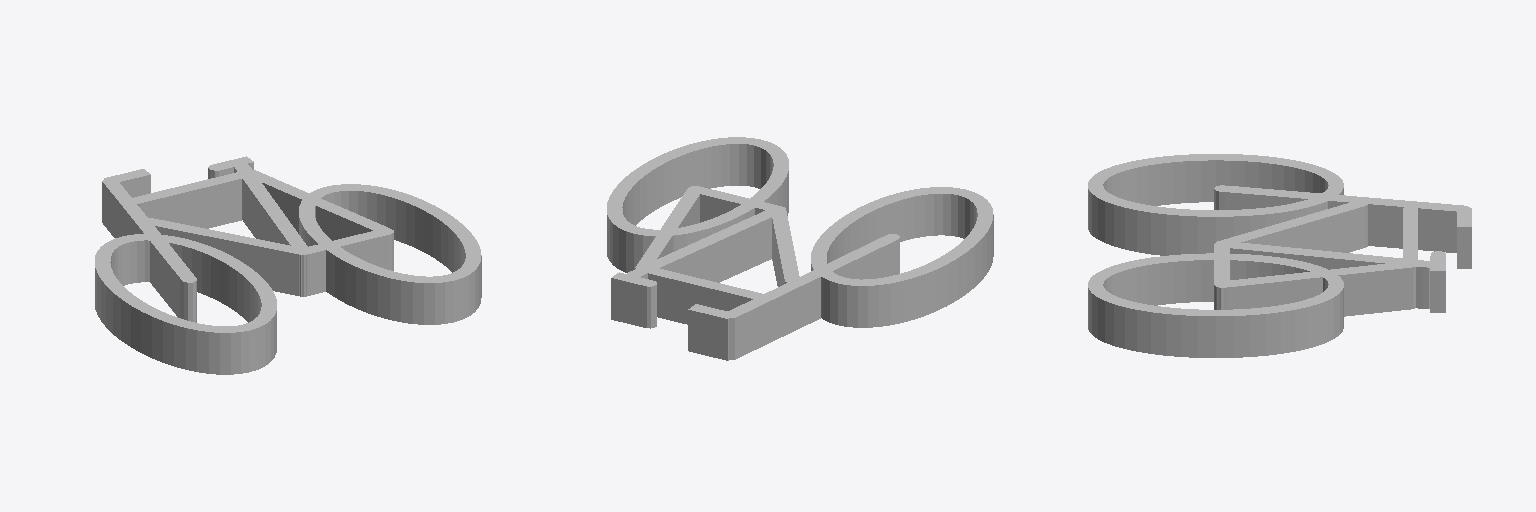
Rendered from 3dtest_cleanup3_0.obj.
The picture shows the model from 3 angles: view 1: azimuth 30°, elevation 25°; view 2: azimuth 150°, elevation 25°; view 3: azimuth 270°, elevation 25°; orthographic projection.
Parts seen in each view (by area): view 1: CityEngineMaterial; view 2: CityEngineMaterial; view 3: CityEngineMaterial.
Part boxes in pixels (x1,y1,x2,y2): CityEngineMaterial: (95, 156, 481, 374); CityEngineMaterial: (607, 137, 993, 360); CityEngineMaterial: (1088, 154, 1471, 357).
Bounding box in the file's own units: 0.8339 × 0.1 × 0.8337.